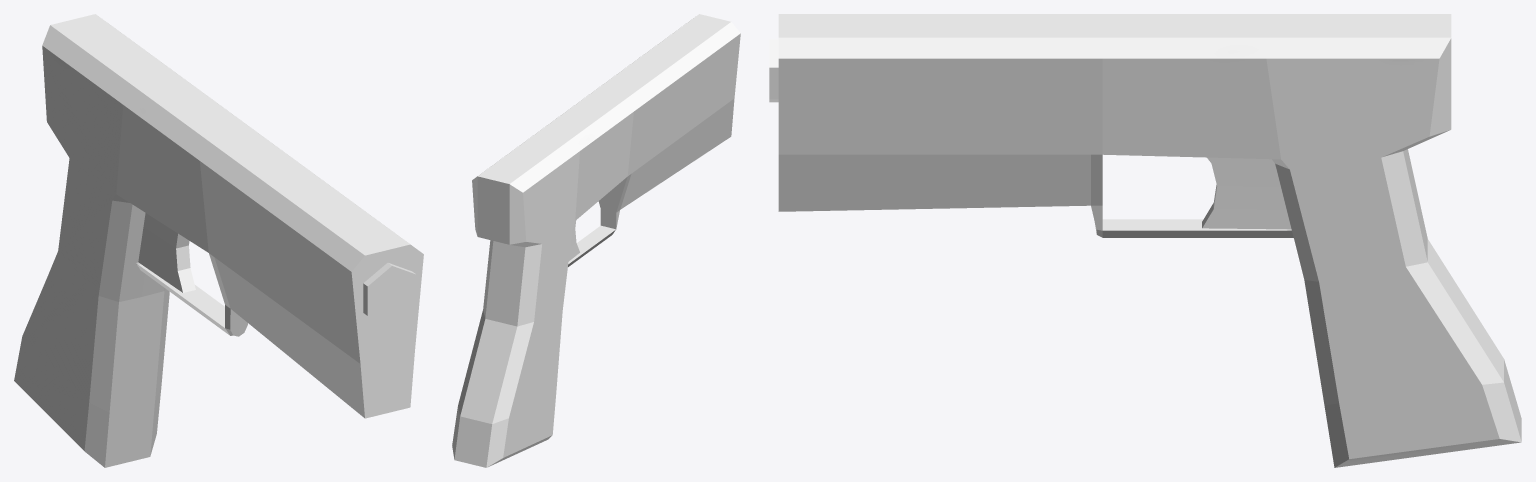
File: LaserPistol.fbx
3 renders of one model, left to right at view 1: azimuth 30°, elevation 25°; view 2: azimuth 150°, elevation 25°; view 3: azimuth 270°, elevation 25°, orthographic. The views are drawn at different scales.
Parts seen in each view (by area): view 1: LaserPistol, Trigger, Barrel; view 2: LaserPistol; view 3: LaserPistol, Trigger.
Part boxes in pixels (x1=…): LaserPistol: x1=14, y1=14, x2=423, y2=467; Trigger: x1=138, y1=213, x2=195, y2=292; Barrel: x1=363, y1=263, x2=416, y2=324; LaserPistol: x1=452, y1=14, x2=740, y2=467; LaserPistol: x1=778, y1=14, x2=1521, y2=467; Trigger: x1=1202, y1=157, x2=1291, y2=229.
Size of the model in its own units: 3.49 by 18.57 by 29.43.
